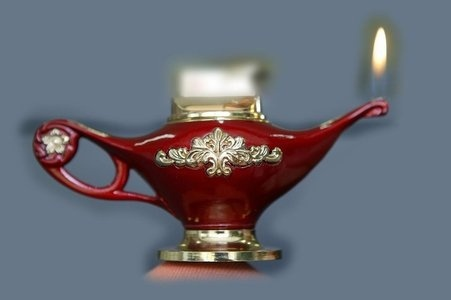fire: (366, 24, 391, 100)
